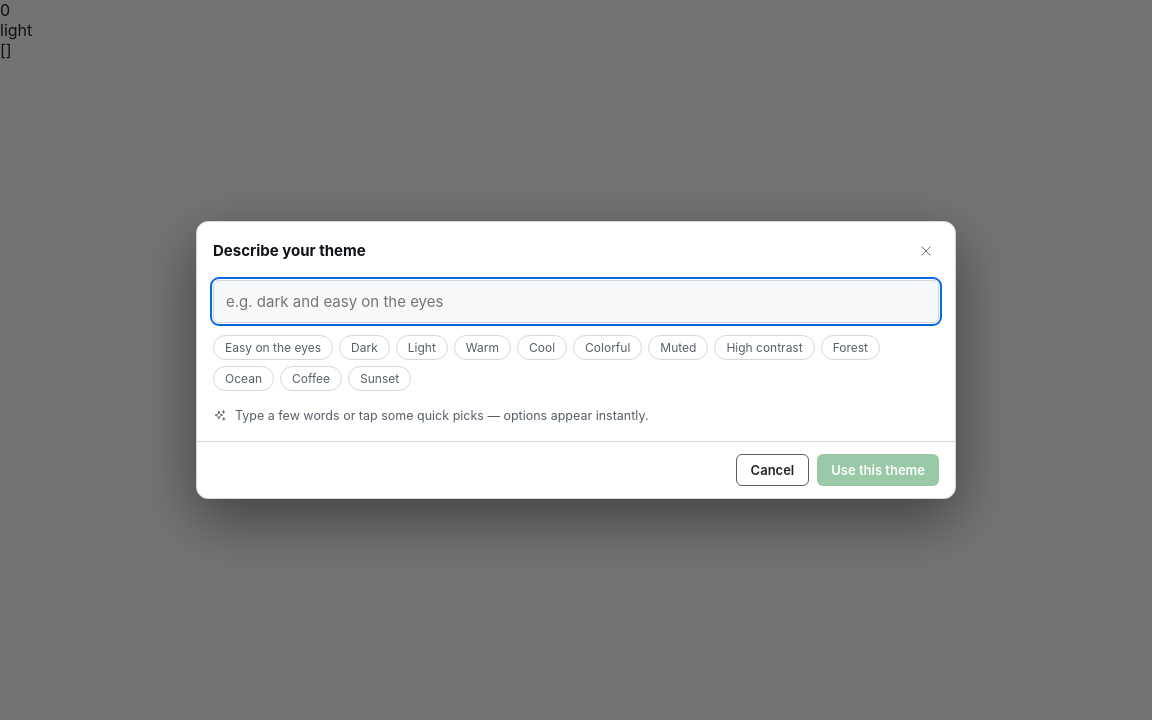
Test: DescribeThemeDialog › gives a friendly nudge, not an error, when nothing is recognized
This screenshot has width=1152, height=720.
Type "xyzzy plugh" into the field named "Describe the theme you want".
click(576, 301); type("xyzzy plugh")  # box [213, 280, 939, 323]
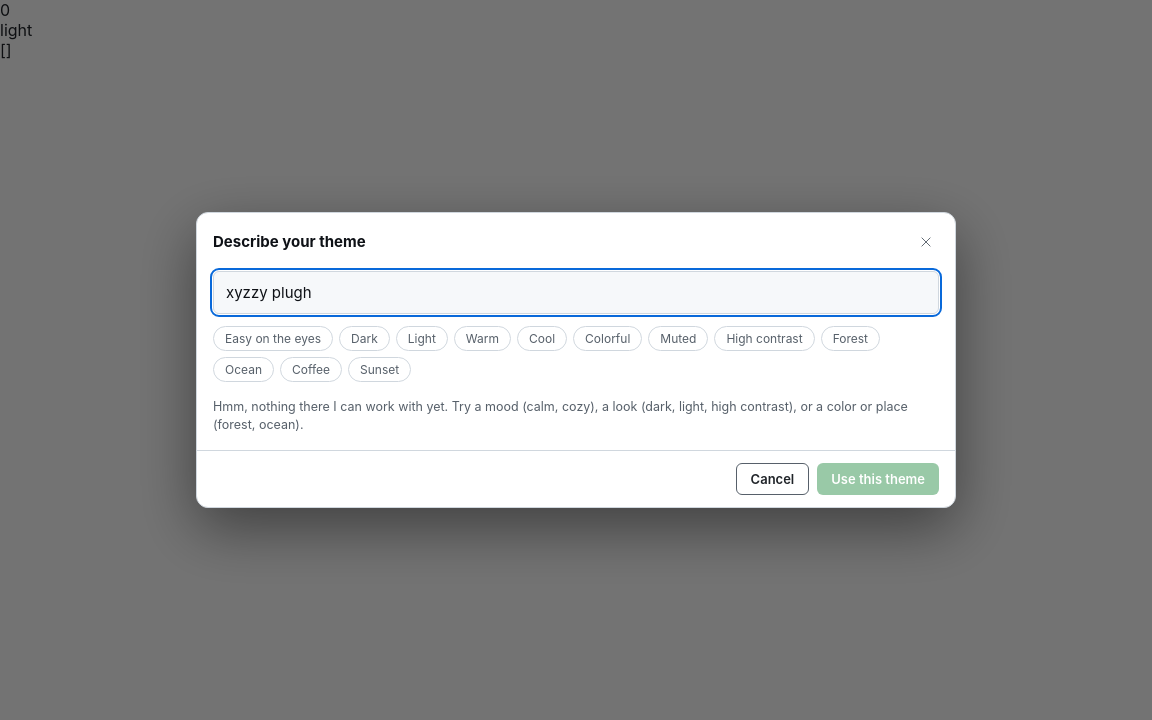
Expected: the button "Use this theme" is disabled, [817, 463, 939, 495]
Now the message shows "nothing there I can work with", box [213, 399, 908, 432]
